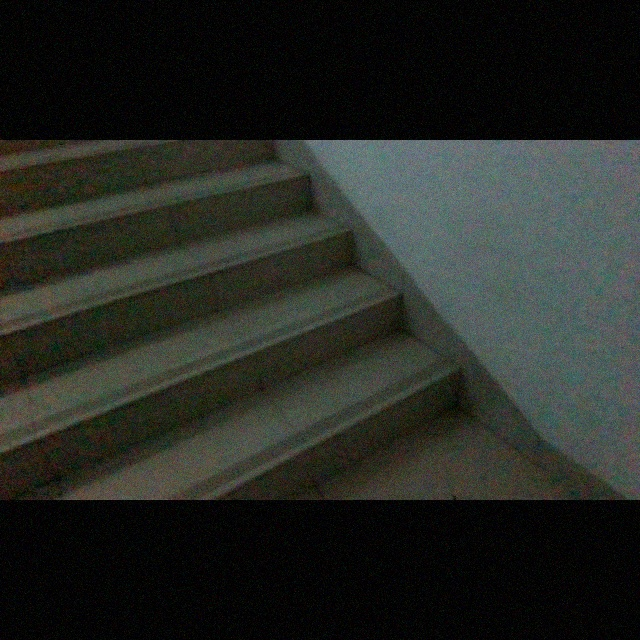stair: (0, 141, 472, 504)
